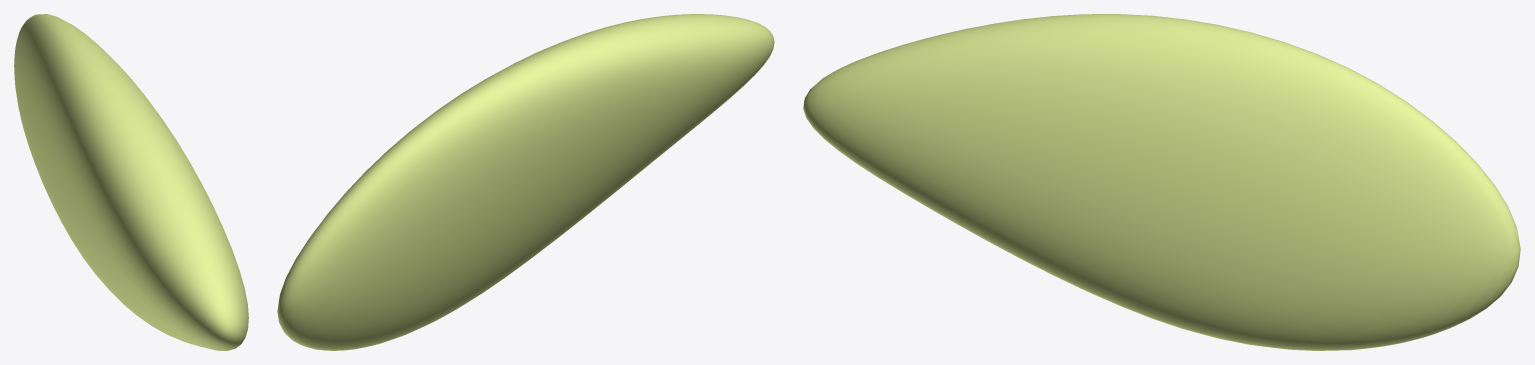
The picture shows the model from 3 angles, left to right: view 1: azimuth 30°, elevation 25°; view 2: azimuth 150°, elevation 25°; view 3: azimuth 270°, elevation 25°; orthographic projection. The views are drawn at different scales.
Parts seen in each view (by area): view 1: FD_F; view 2: FD_F; view 3: FD_F.
Part boxes in pixels (x1,y1,x2,y2): FD_F: (14,14,248,350); FD_F: (277,14,774,350); FD_F: (803,14,1520,350).
Size of the model in its own units: 2.79 by 3.51 by 8.17.
